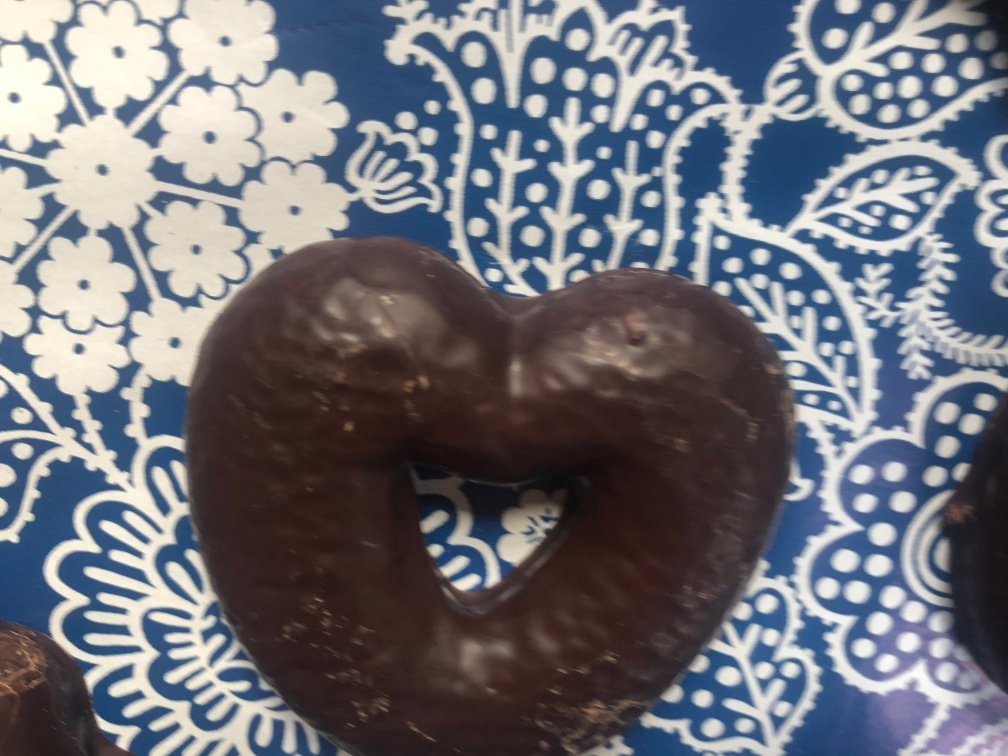heart: (182, 234, 798, 755)
